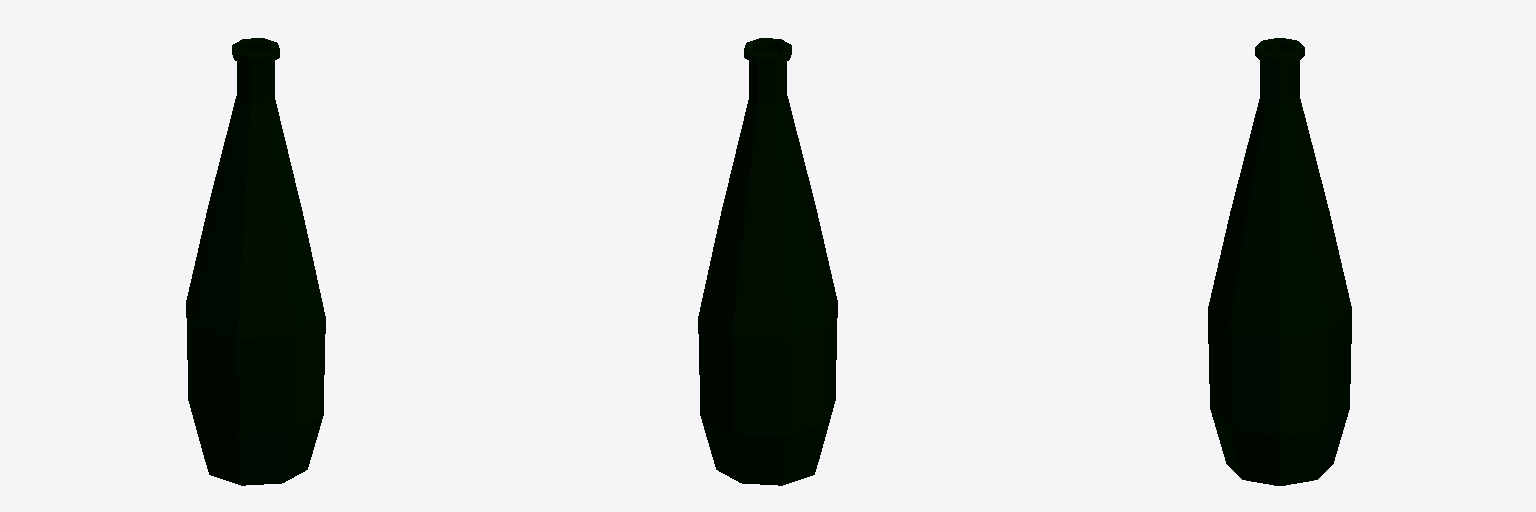
The model's file is Bottle1.obj.
The picture shows the model from 3 angles: view 1: azimuth 30°, elevation 25°; view 2: azimuth 150°, elevation 25°; view 3: azimuth 270°, elevation 25°; orthographic projection.
Visible parts, largest first — view 1: Bottle1_Cylinder.001; view 2: Bottle1_Cylinder.001; view 3: Bottle1_Cylinder.001.
Boxes of the visible parts, x1=… form: Bottle1_Cylinder.001: x1=186, y1=38, x2=325, y2=485; Bottle1_Cylinder.001: x1=698, y1=38, x2=837, y2=485; Bottle1_Cylinder.001: x1=1208, y1=38, x2=1351, y2=485.
Bounding box in the file's own units: 0.1578 × 0.5002 × 0.1578.